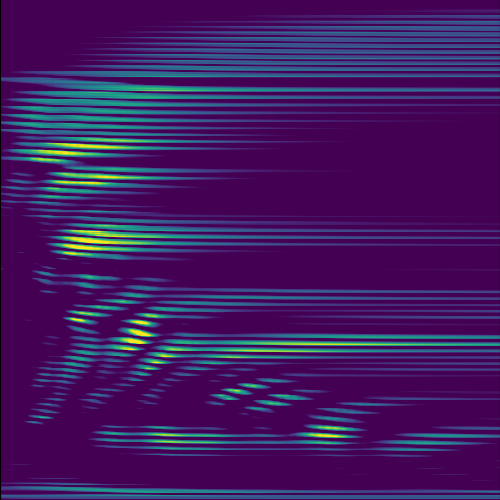semblance: (59, 303, 186, 373), (53, 219, 163, 260), (31, 135, 157, 167), (47, 163, 144, 192), (301, 419, 358, 445), (225, 379, 271, 401)
